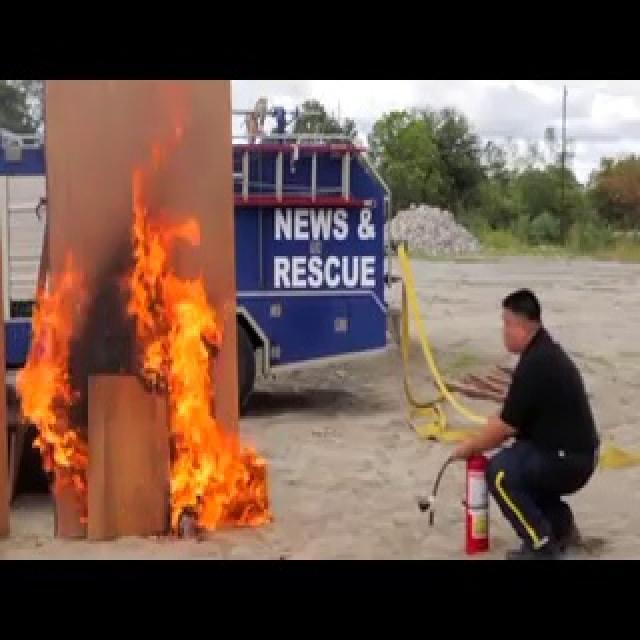fire: (21, 125, 285, 531)
